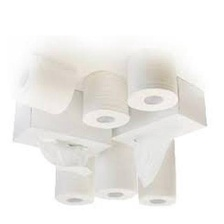book: (9, 87, 114, 158), (109, 73, 209, 145)
tissue: (7, 50, 77, 115), (123, 46, 181, 112), (79, 68, 132, 130), (89, 141, 140, 203), (136, 135, 178, 209), (128, 131, 176, 191), (33, 135, 97, 178), (51, 165, 98, 210)
